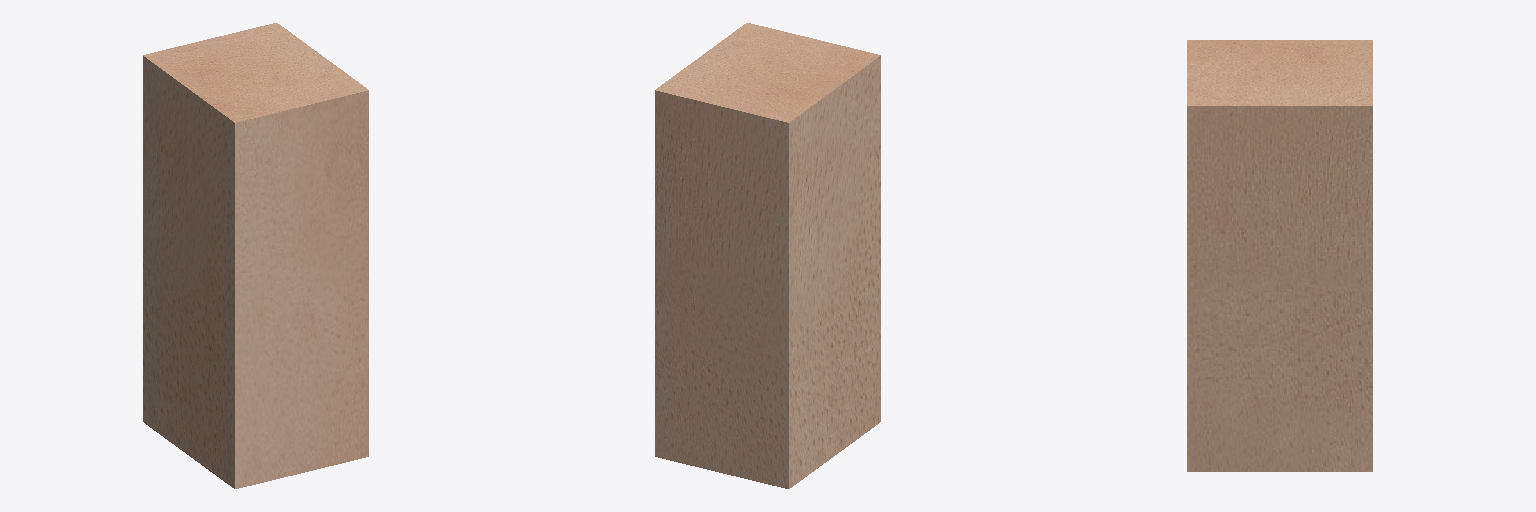
The picture shows the model from 3 angles: view 1: azimuth 30°, elevation 25°; view 2: azimuth 150°, elevation 25°; view 3: azimuth 270°, elevation 25°; orthographic projection.
Parts seen in each view (by area): view 1: Cube.005_Cube.011; view 2: Cube.005_Cube.011; view 3: Cube.005_Cube.011.
Part boxes in pixels (bbox=[...]): Cube.005_Cube.011: bbox=[143, 23, 368, 488]; Cube.005_Cube.011: bbox=[655, 23, 880, 488]; Cube.005_Cube.011: bbox=[1187, 40, 1372, 471].
Bounding box in the file's own units: 0.3112 × 0.8112 × 0.3712.
1 materials, 1 textured.